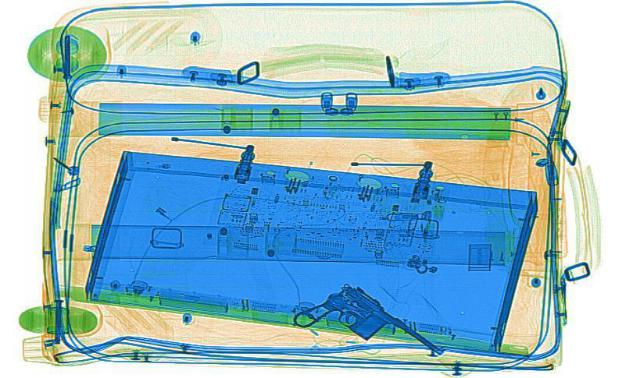Gun: (276, 281, 442, 376)
